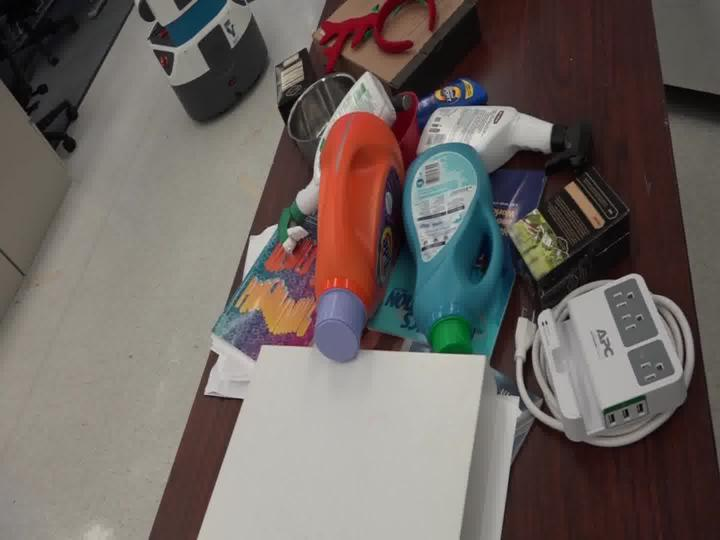downy: (389, 124, 519, 350)
